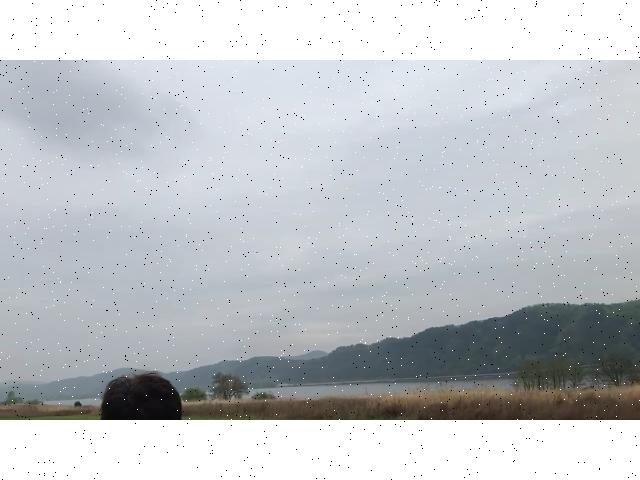Anti-Drone: (245, 248, 275, 262)
